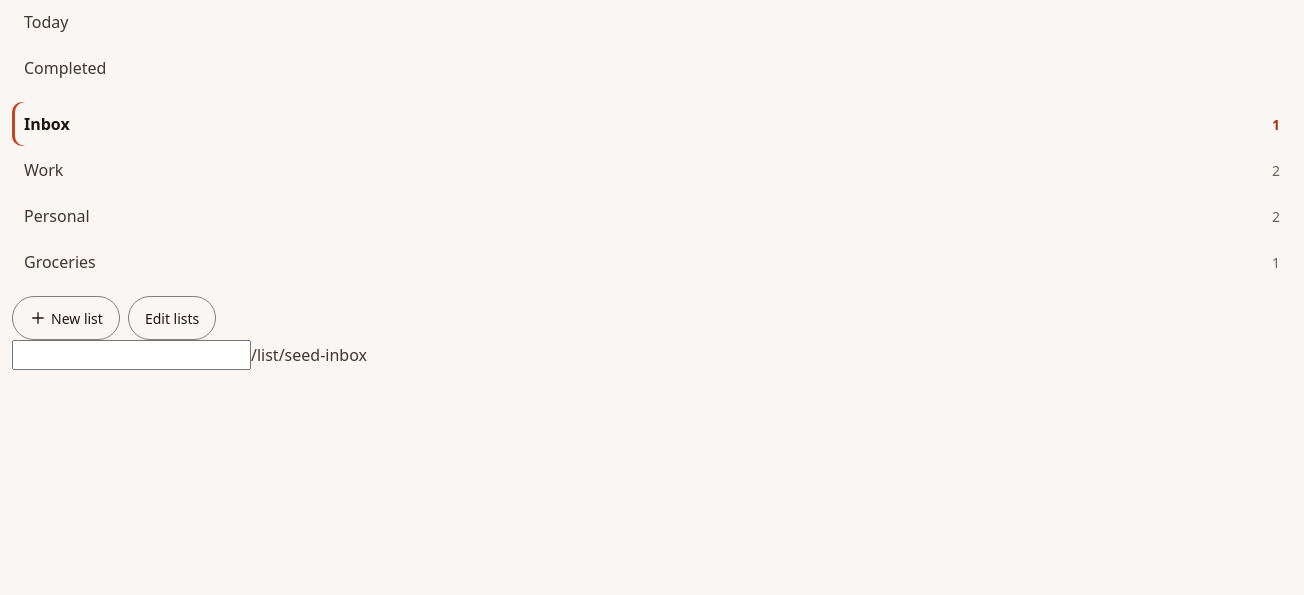
Test: ListNav › editing › keeps the old name when a rename is cancelled with Escape
expect the link "Work 2" is shown: met, box [24,159,1280,181]
Click the button "Edit lists" at [172, 318], box [128,296,216,340]
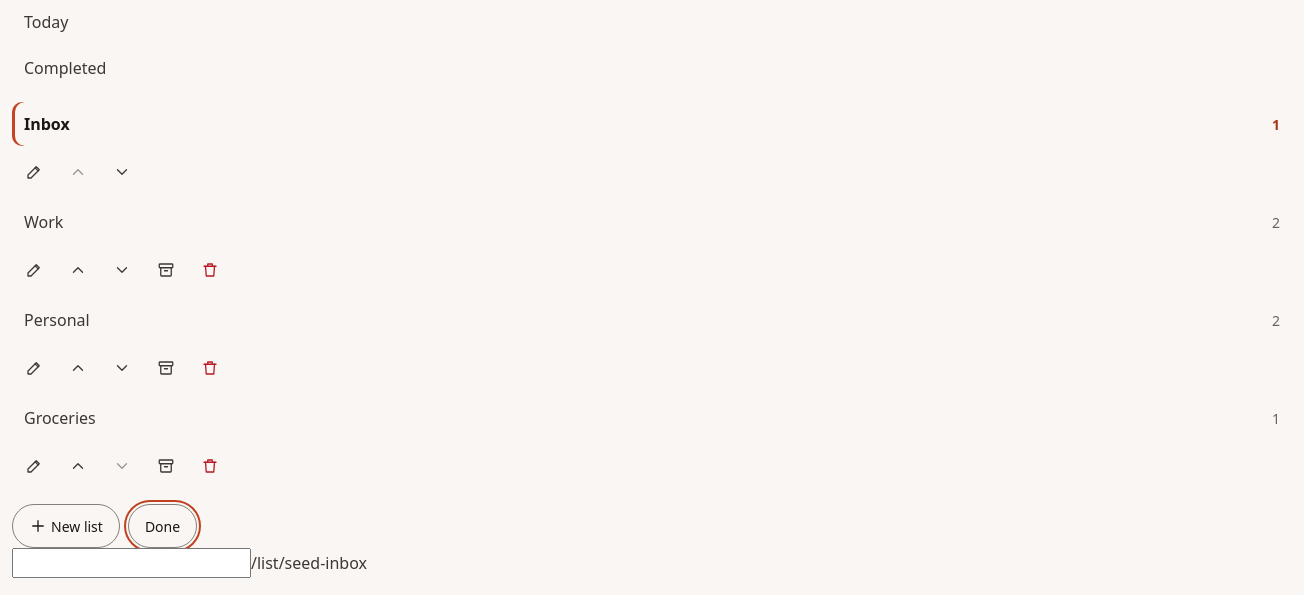
Click the button named "Rename Work" at [34, 270], box [12,248,56,292]
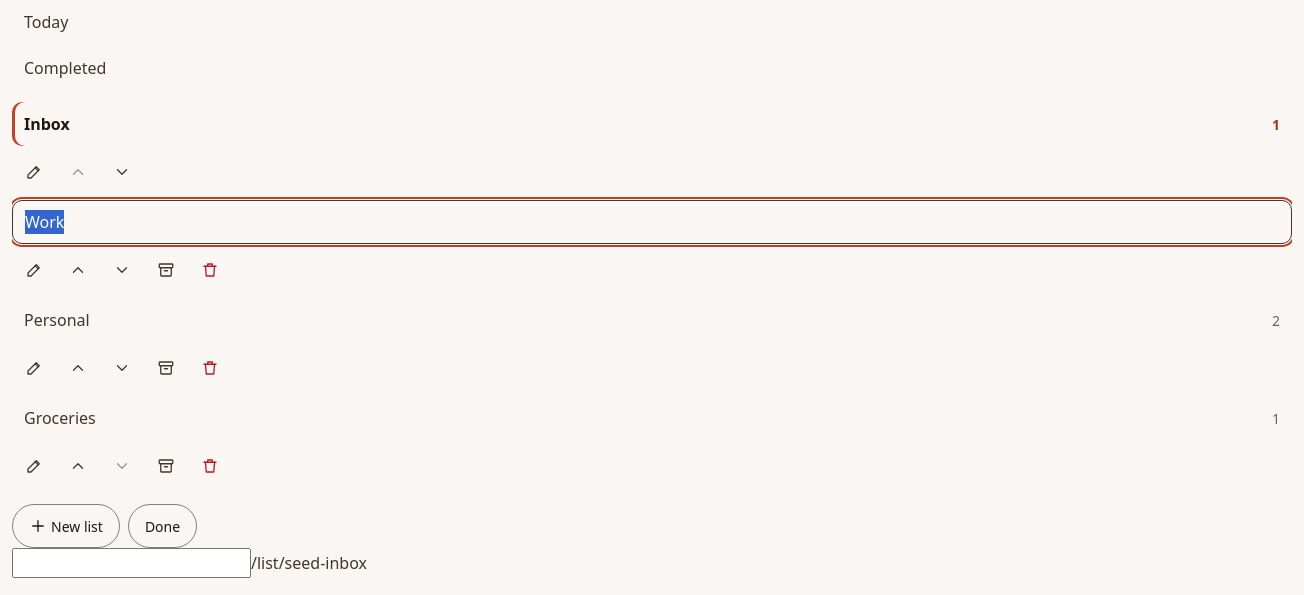
Type keys "{Control>}a{/Control}Office{Escape}"
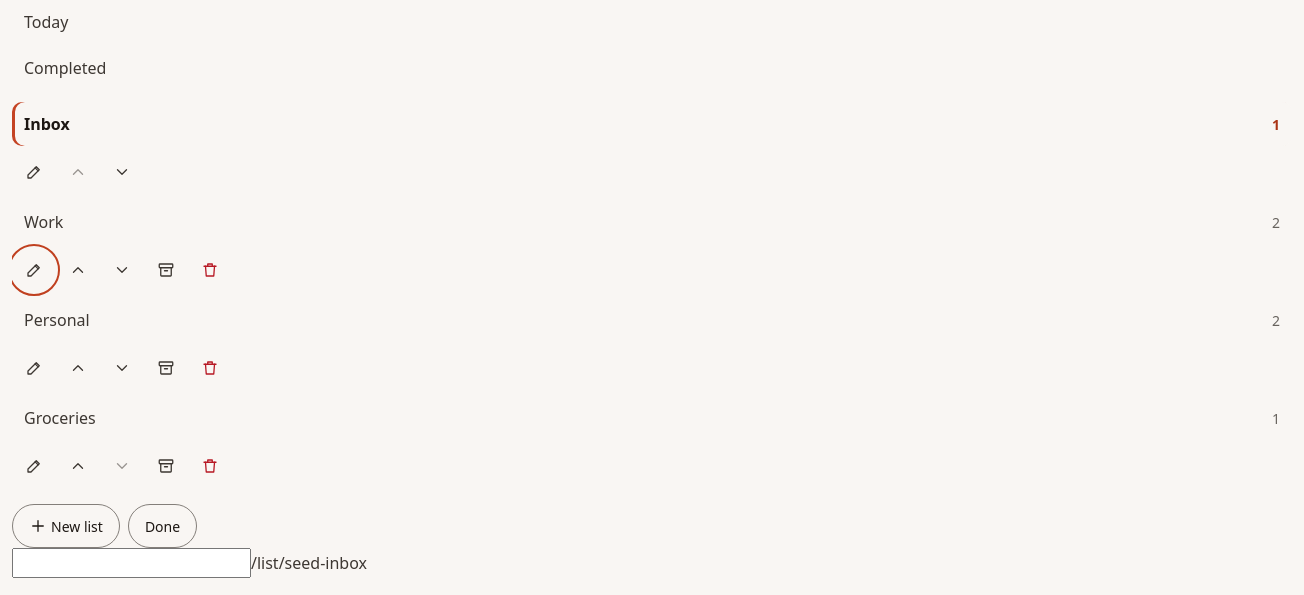
expect the text "Work" is shown: met, box [24,211,63,233]
